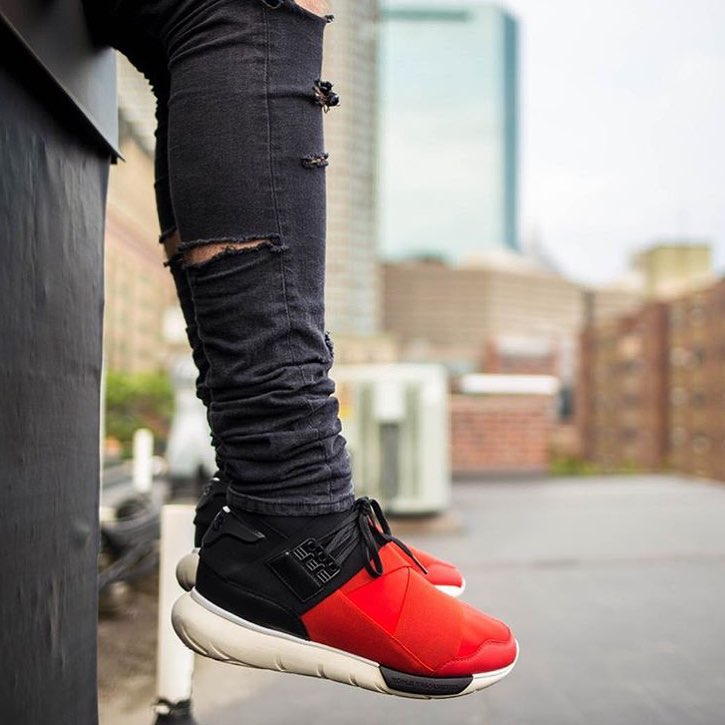sneaker: (146, 456, 536, 721)
